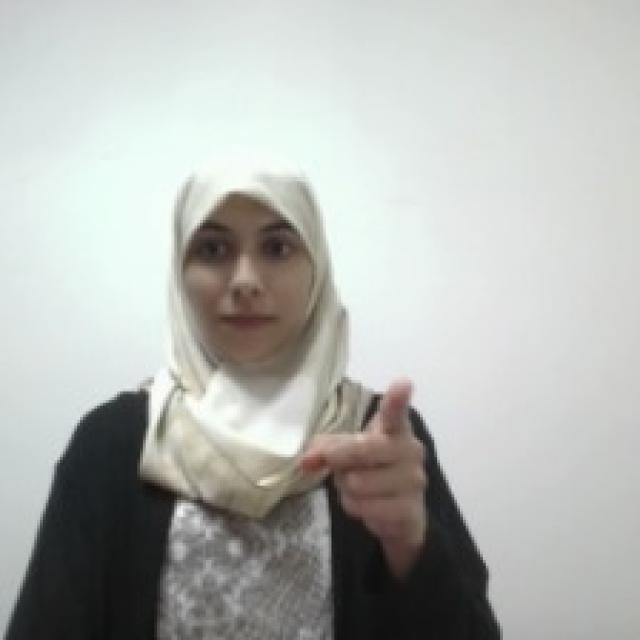you: (295, 370, 433, 543)
